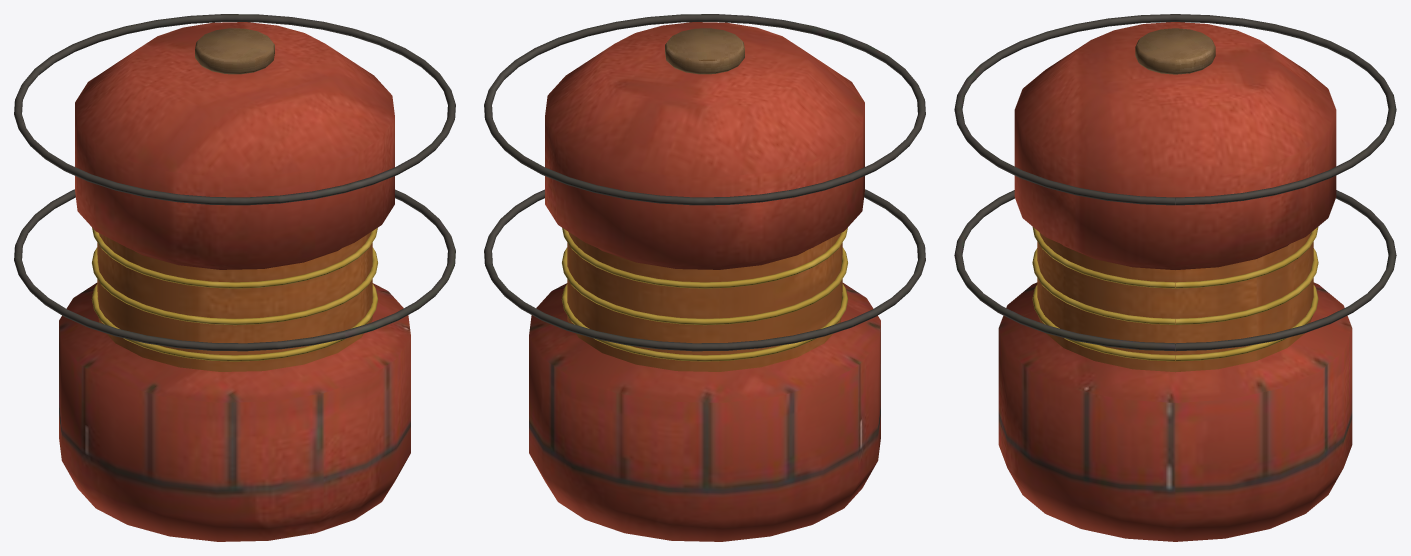
The model's file is stove_round_red.glb.
3 renders of one model, left to right at view 1: azimuth 30°, elevation 25°; view 2: azimuth 150°, elevation 25°; view 3: azimuth 270°, elevation 25°, orthographic.
Parts seen in each view (by area): view 1: prop_stove_round_red_felt, prop_stove_round_red_felt_heat, prop_stove_round_red_fire, prop_stove_round_red_wood; view 2: prop_stove_round_red_felt, prop_stove_round_red_felt_heat, prop_stove_round_red_fire, prop_stove_round_red_wood; view 3: prop_stove_round_red_felt, prop_stove_round_red_felt_heat, prop_stove_round_red_fire, prop_stove_round_red_wood.
Boxes of the visible parts, <box> form: prop_stove_round_red_felt: <box>14,14,455,541</box>; prop_stove_round_red_felt_heat: <box>97,232,372,371</box>; prop_stove_round_red_fire: <box>91,227,378,361</box>; prop_stove_round_red_wood: <box>195,28,274,74</box>; prop_stove_round_red_felt: <box>484,14,925,541</box>; prop_stove_round_red_felt_heat: <box>567,232,842,371</box>; prop_stove_round_red_fire: <box>561,227,848,361</box>; prop_stove_round_red_wood: <box>665,28,744,74</box>; prop_stove_round_red_felt: <box>954,14,1396,541</box>; prop_stove_round_red_felt_heat: <box>1037,233,1313,372</box>; prop_stove_round_red_fire: <box>1032,226,1318,361</box>; prop_stove_round_red_wood: <box>1135,28,1215,74</box>.
Bounding box in the file's own units: 1.1 × 1.18 × 1.1.
5 materials, 4 textured.
